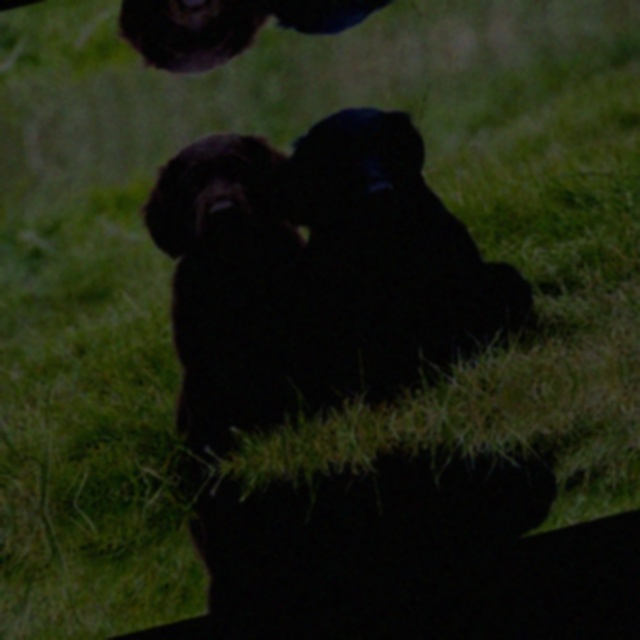dog: (119, 110, 294, 267), (290, 74, 443, 234), (98, 0, 273, 100), (269, 0, 420, 59)
